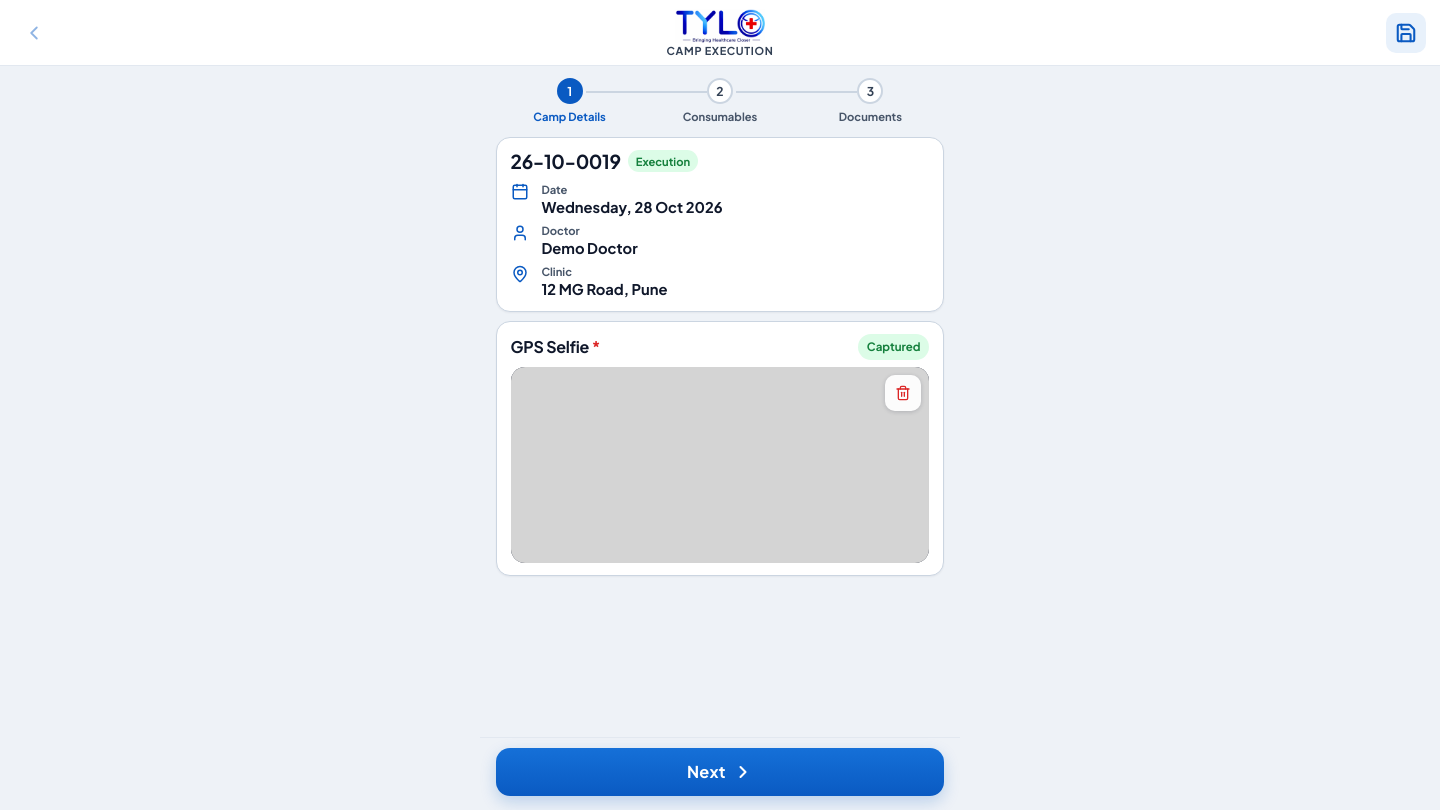
CampExecutePage activity form layout › opens consumable rows only after the Consumables Used checkbox is ticked
Check: the text "26-10-0019" is shown, box [511,150,621,172]
Click the button "Next" at point(720, 772), box [496,748,944,796]
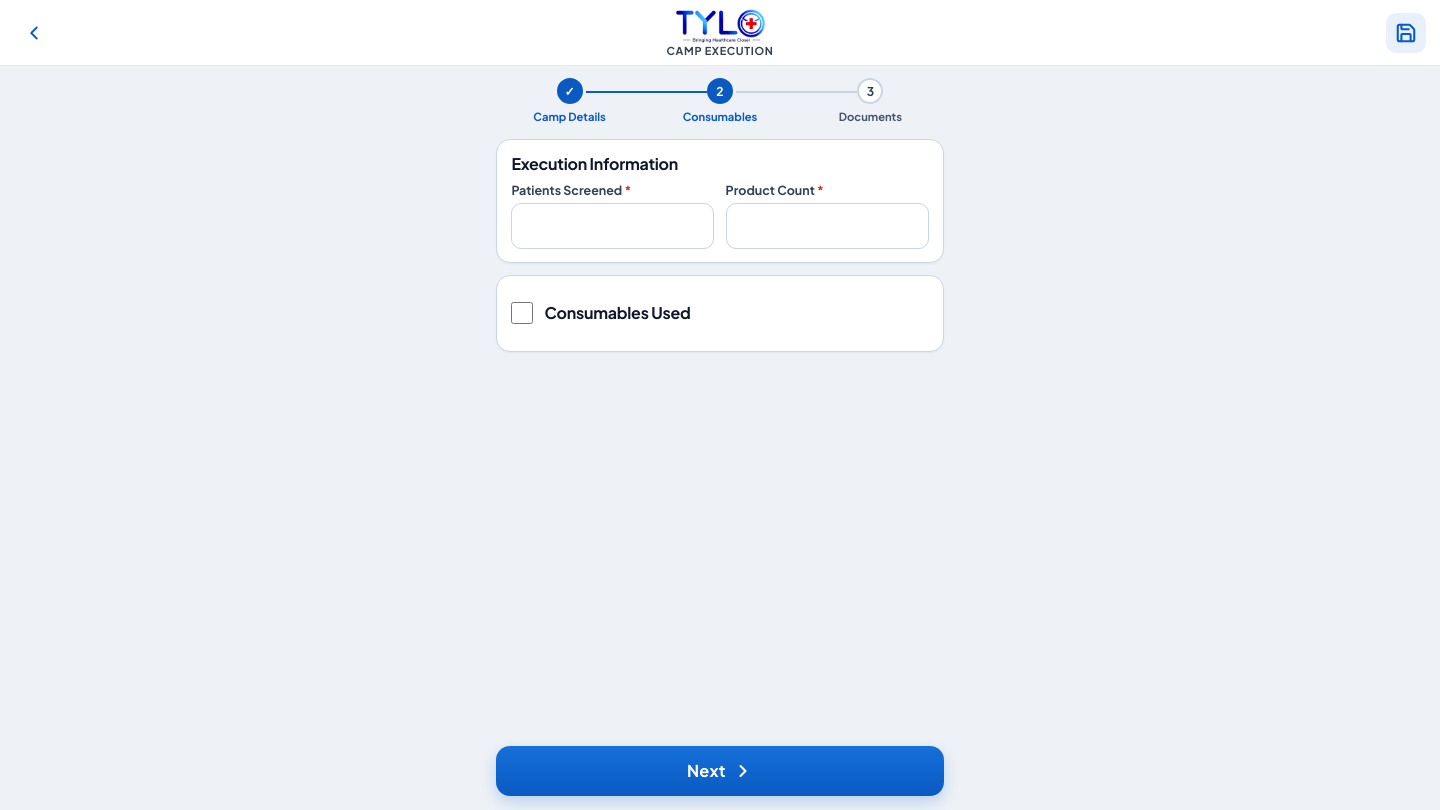
Check: the text "Item name" is not shown
Click the checkbox labelled "Consumables Used" at point(522, 313), box [511,302,533,324]
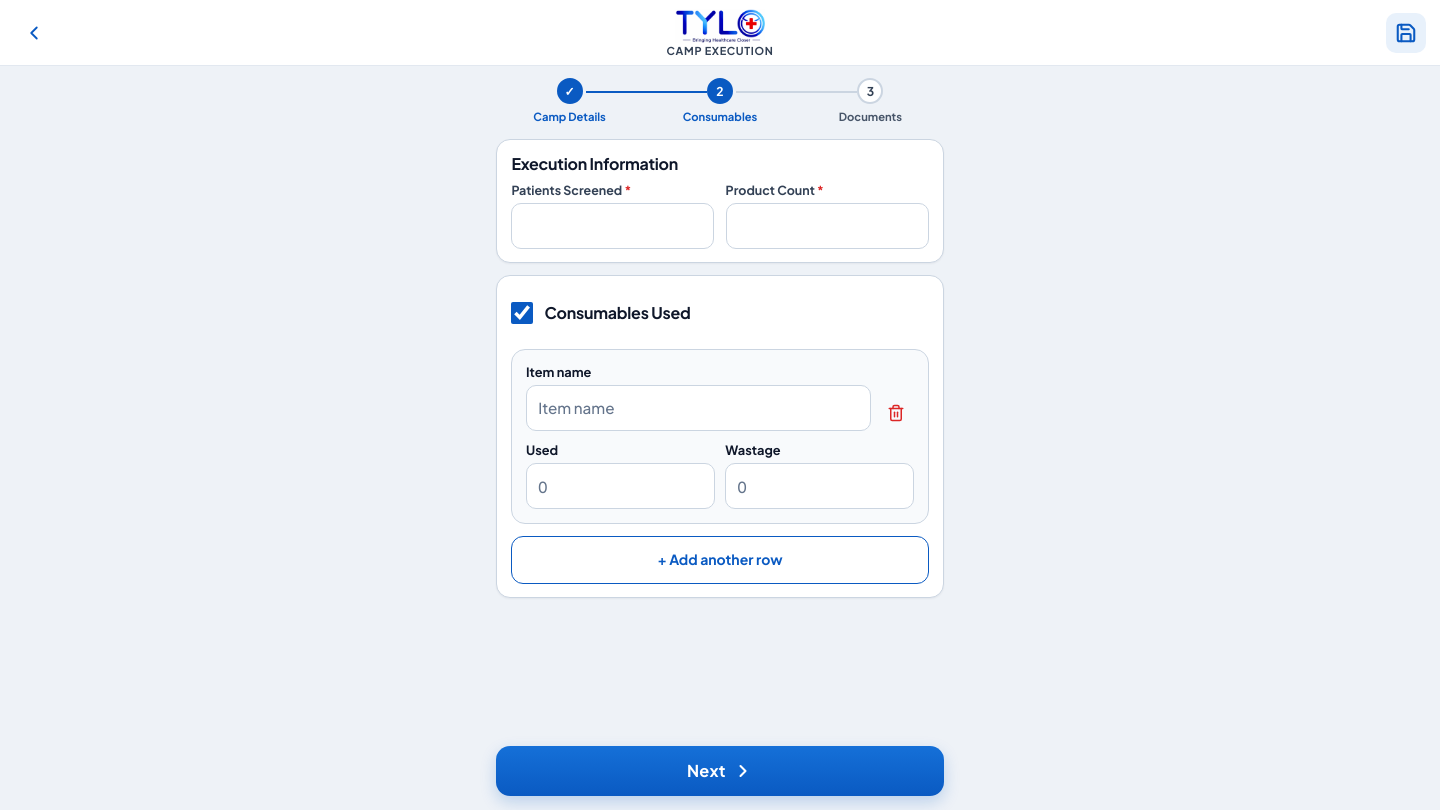
Check: the text "Item name" is shown, box [526,364,591,380]
Check: the text "Used" is shown, box [526,442,558,458]
Check: the text "Wastage" is shown, box [725,442,781,458]
Click the button "+ Add another row" at point(720, 560), box [511,536,929,584]
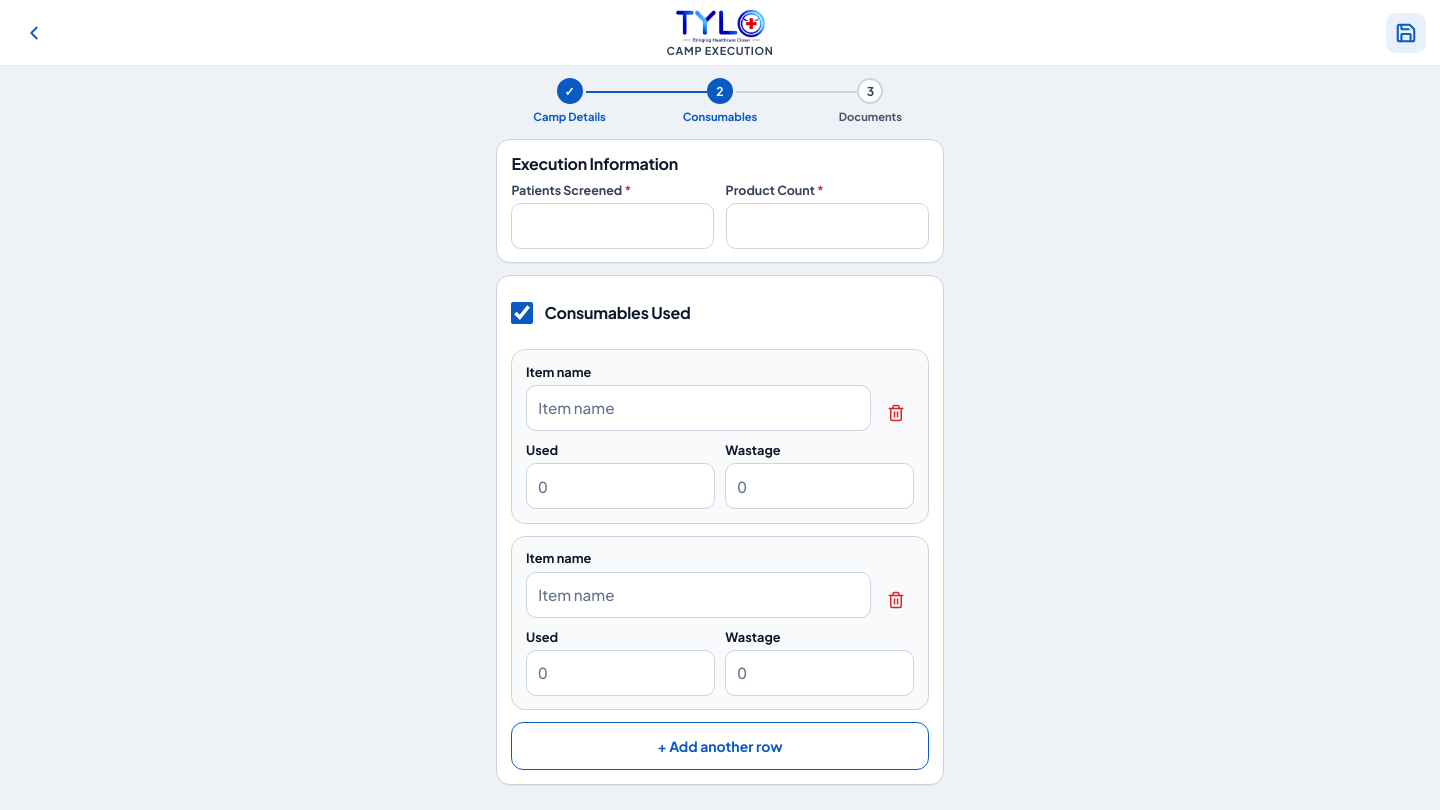
Check: the text "Item name" is shown 2 times, box [526,364,591,380]; [526,550,591,566]
